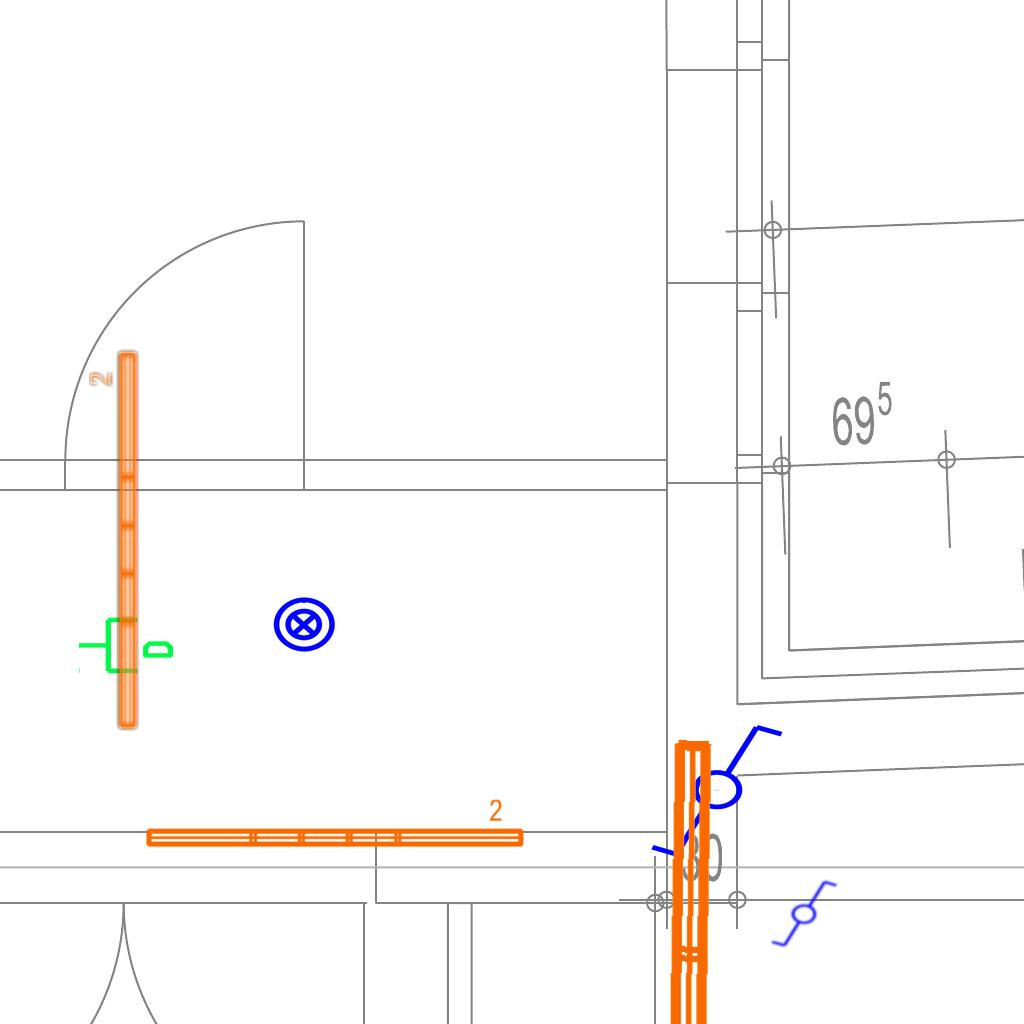Ambulanz_Pendelleuchte_LED: (649, 729, 775, 1024), (141, 797, 528, 853), (87, 347, 143, 734)
Datenanschluss_einfach: (76, 609, 176, 678)
Taster_beleuchtet: (271, 592, 337, 658)
Wechselschalter: (647, 720, 804, 864), (761, 877, 839, 949)
